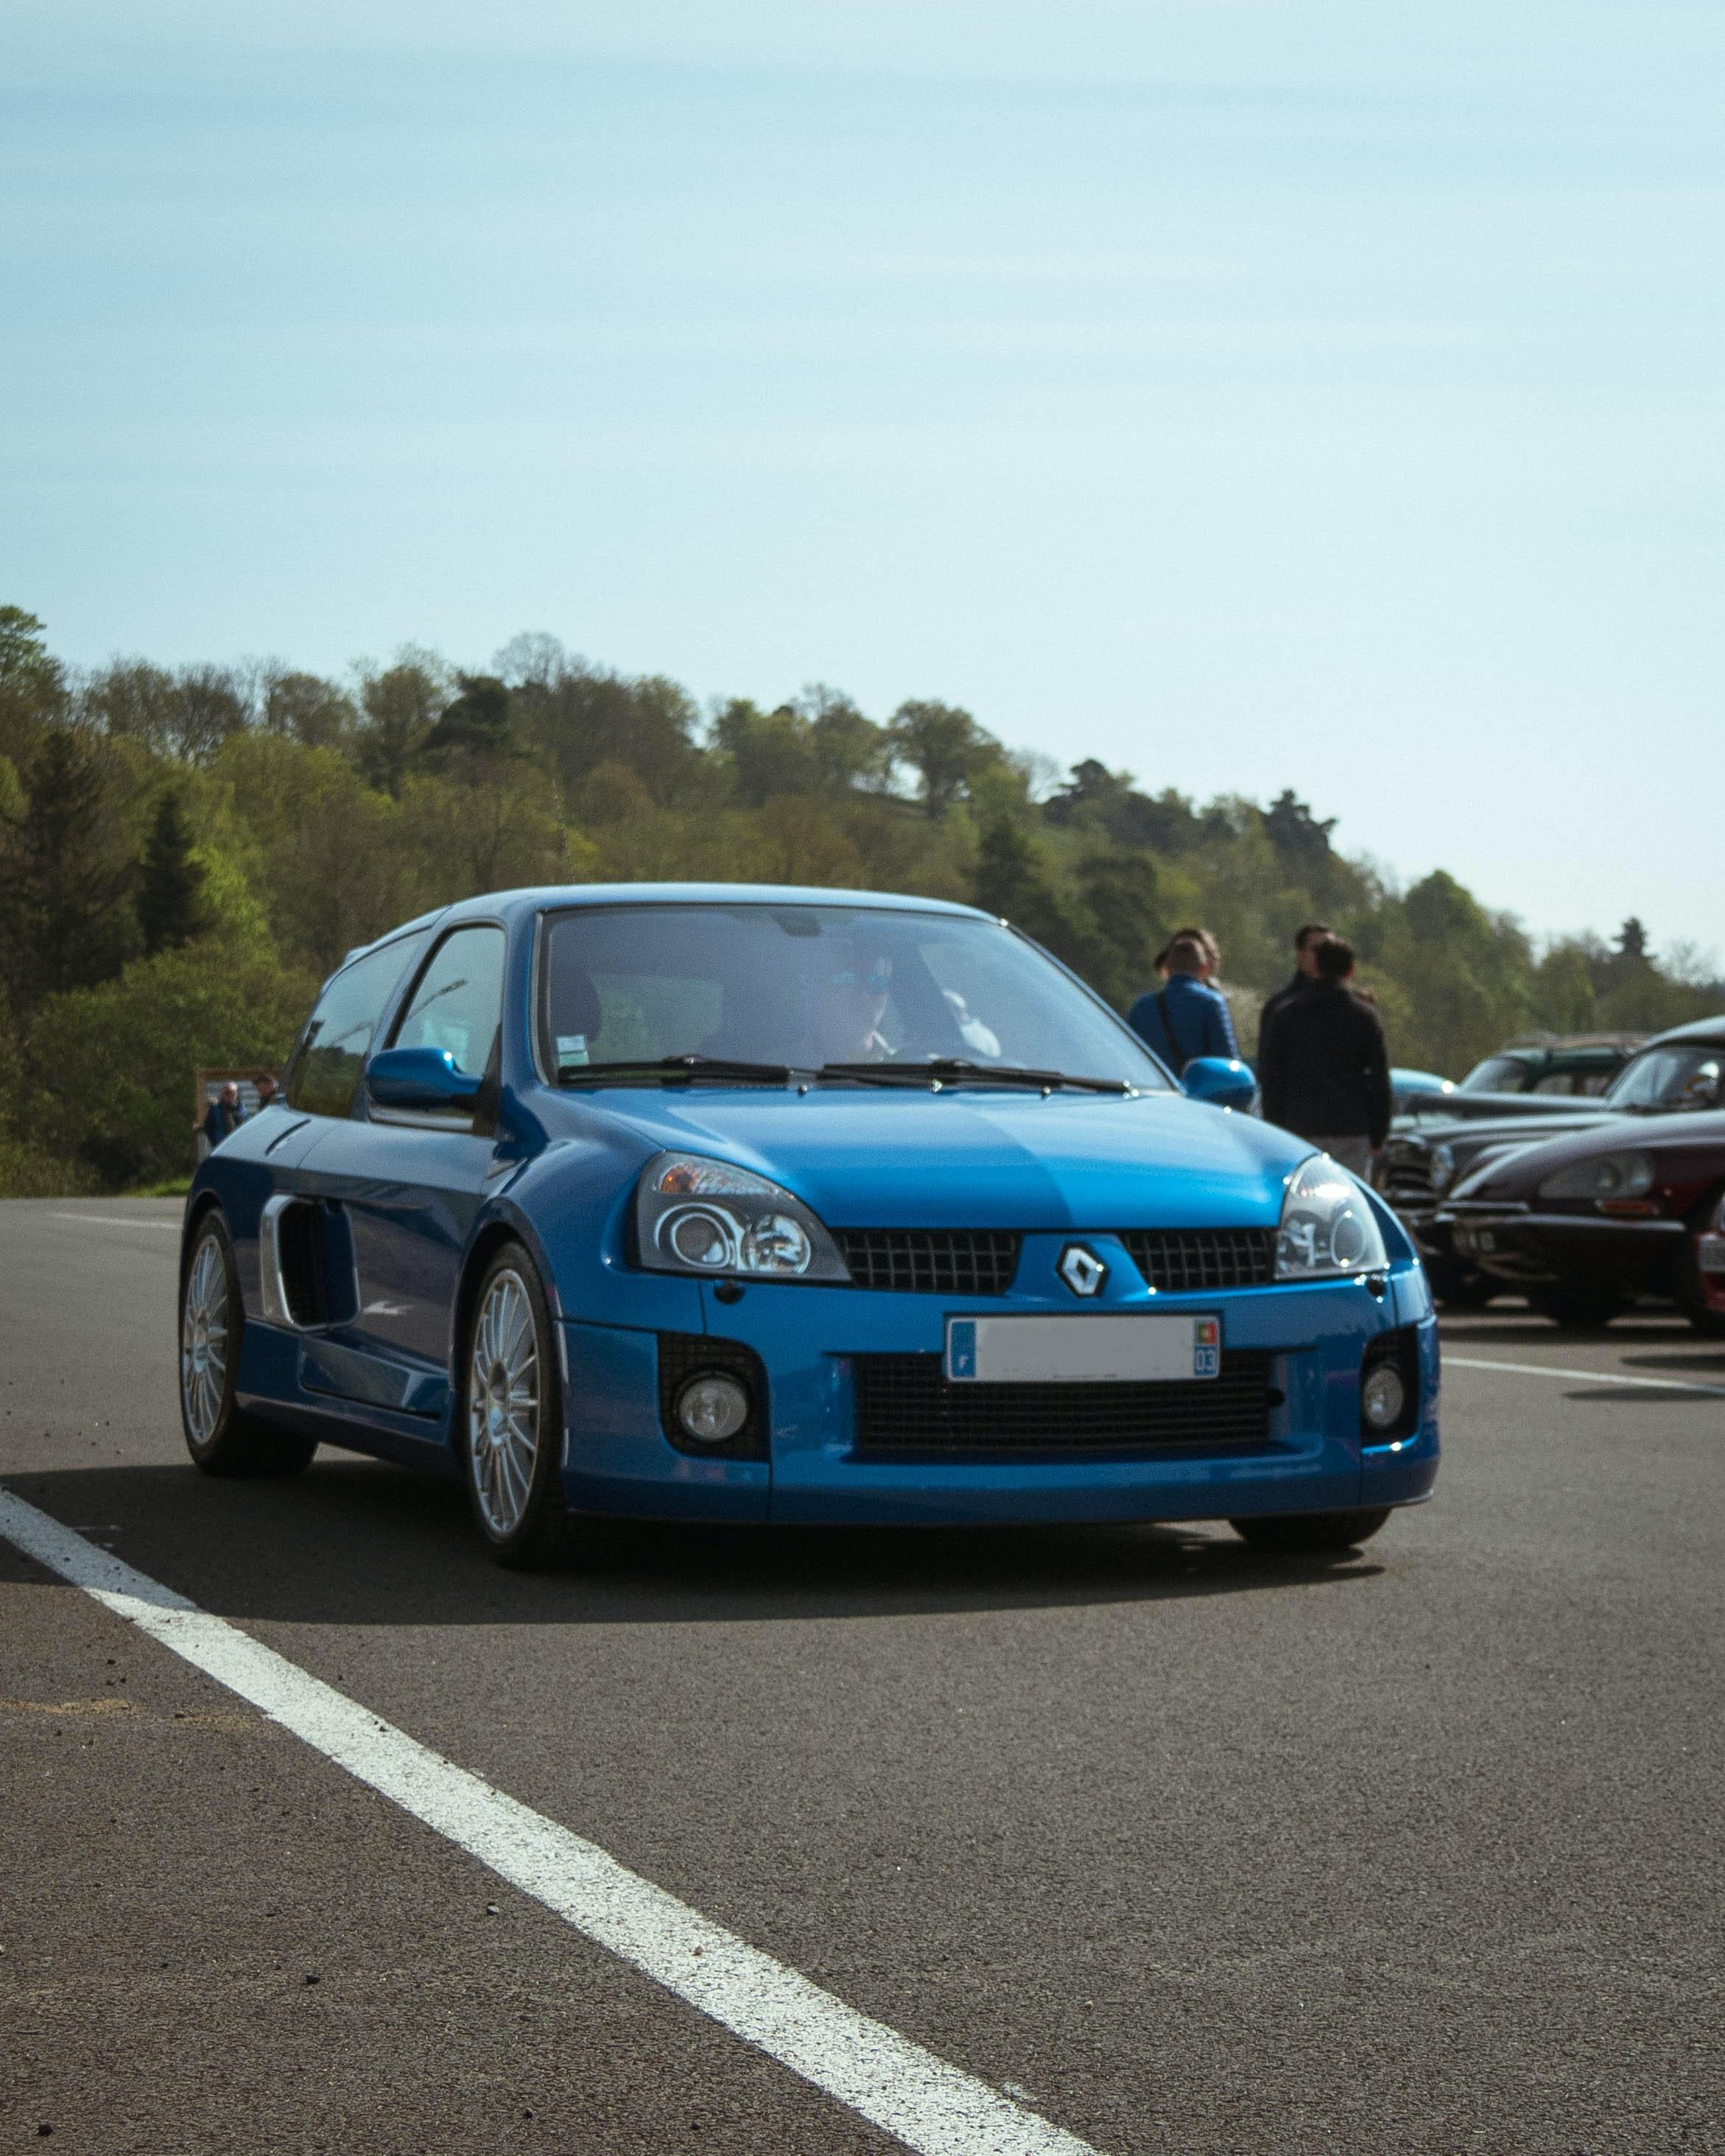Renault: (1039, 1236, 1127, 1311)
